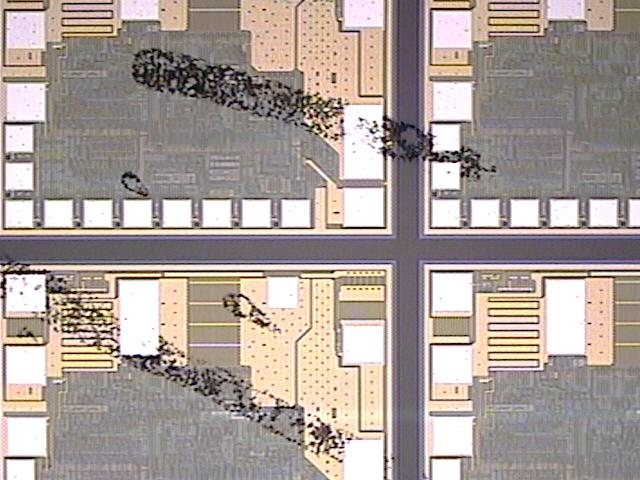SCRATCH: (1, 44, 503, 480)
